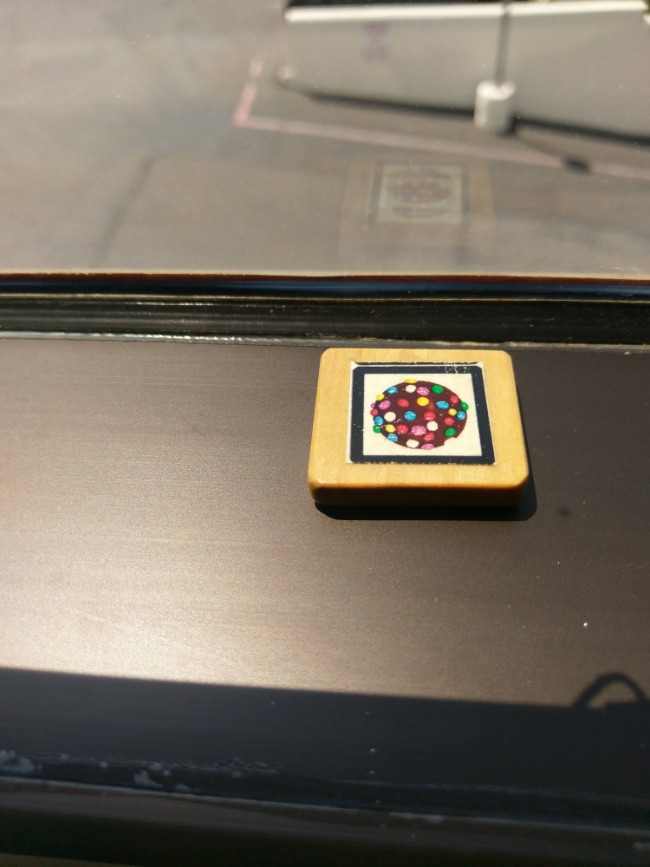cookie: (321, 348, 527, 486)
